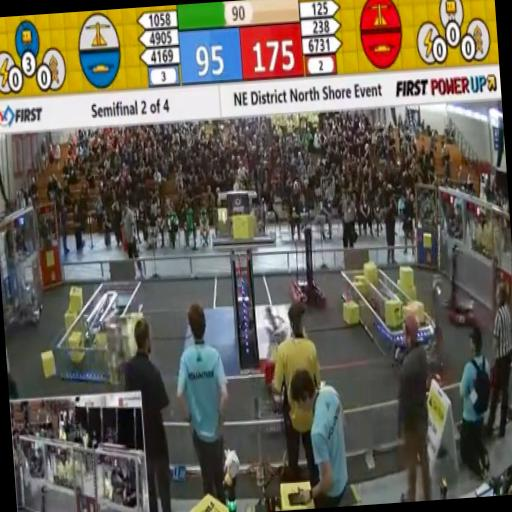robot: (256, 300, 318, 436), (387, 271, 456, 392), (282, 216, 327, 312), (441, 235, 484, 335), (0, 246, 45, 329)
